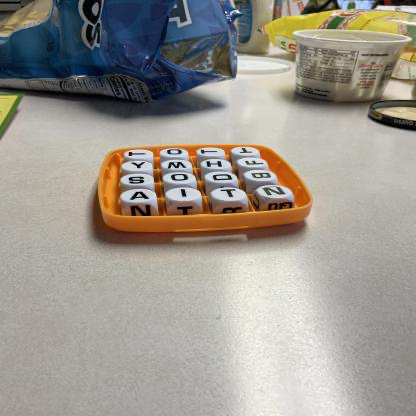a: (122, 190, 157, 203)
b: (246, 171, 277, 182)
d: (206, 173, 238, 184)
f: (238, 158, 268, 168)
h: (202, 160, 232, 170)
i: (167, 189, 202, 202)
n: (258, 186, 293, 199)
o: (164, 173, 196, 185), (161, 149, 189, 158)
s: (121, 175, 155, 186)
t: (212, 188, 247, 202), (125, 151, 154, 160), (197, 149, 226, 157), (232, 148, 260, 156)
w: (162, 161, 193, 171)
y: (122, 162, 154, 172)
